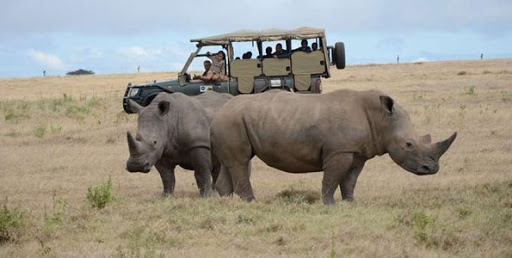rhino: (205, 86, 458, 208), (124, 91, 240, 197)
